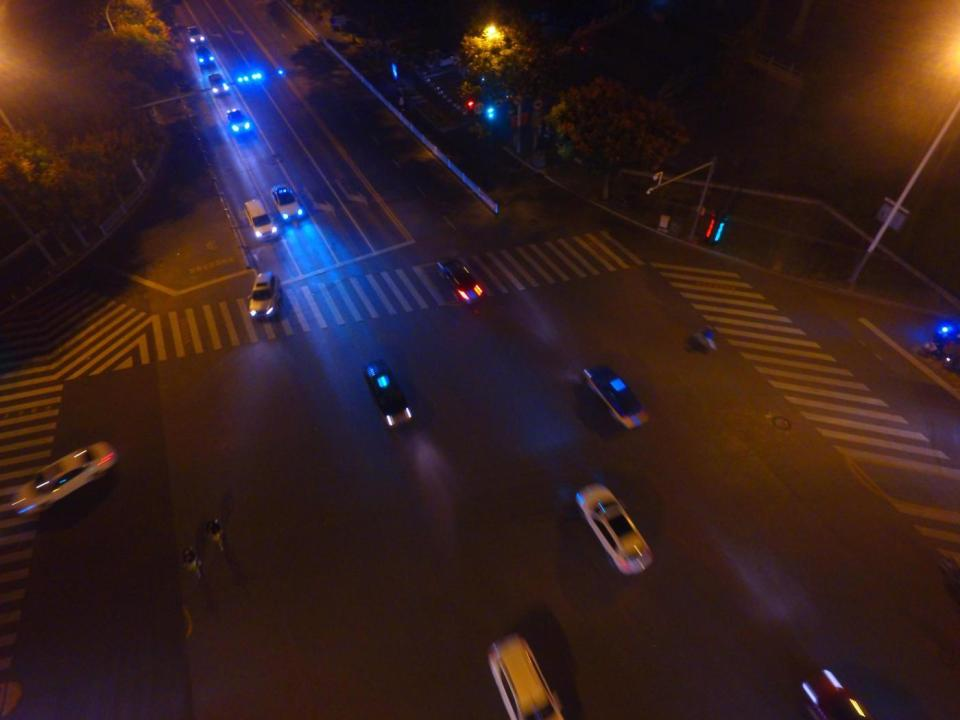car: (12, 442, 114, 518), (575, 486, 654, 578), (487, 631, 564, 720), (582, 363, 650, 430), (800, 668, 873, 720), (362, 362, 414, 431), (434, 260, 481, 305), (248, 272, 281, 319), (245, 200, 279, 242), (271, 184, 307, 223), (225, 107, 252, 134), (206, 73, 229, 97), (186, 24, 205, 46), (196, 48, 214, 70)
